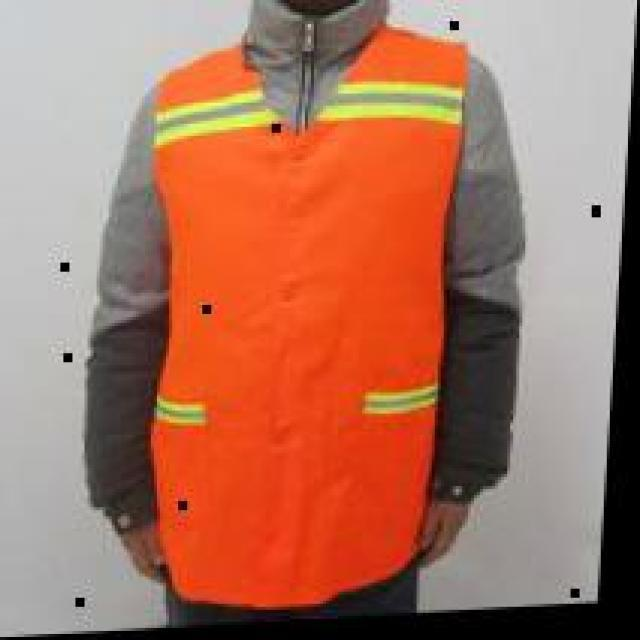safety_helmet: (87, 32, 519, 599)
